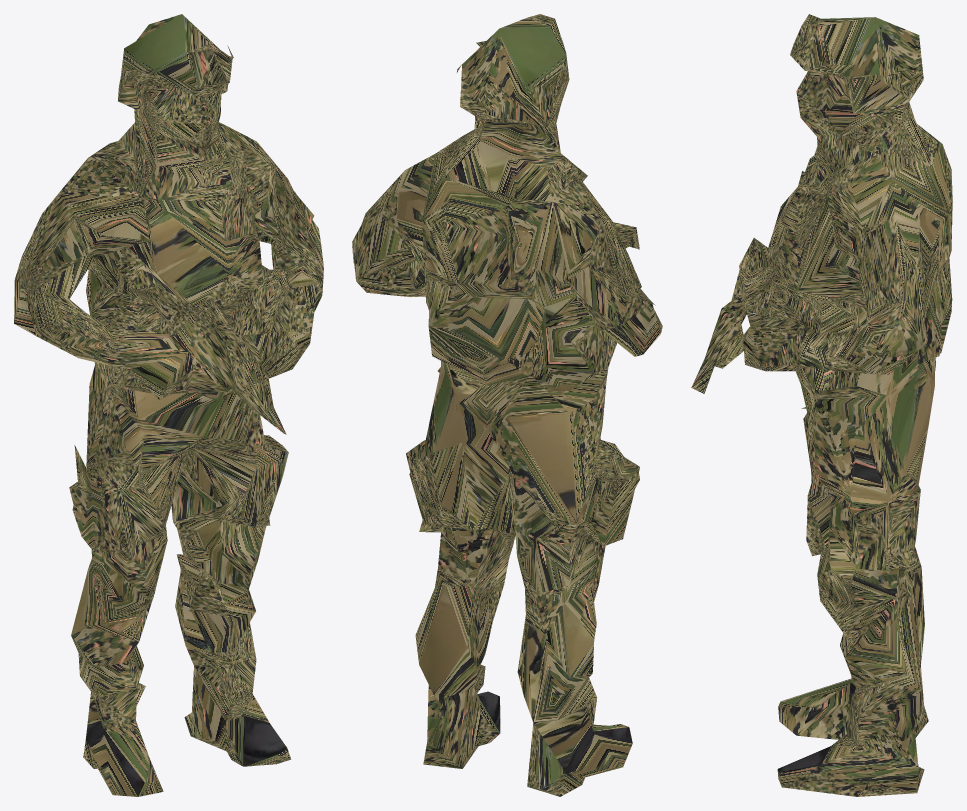
File: soldier-crowd.glb
The picture shows the model from 3 angles, left to right: view 1: azimuth 30°, elevation 25°; view 2: azimuth 150°, elevation 25°; view 3: azimuth 270°, elevation 25°; orthographic projection.
Visible parts, largest first — view 1: Mesh_0; view 2: Mesh_0; view 3: Mesh_0.
Part boxes in pixels (x1,y1,x2,y2): Mesh_0: (14,14,323,796); Mesh_0: (352,14,662,796); Mesh_0: (691,14,952,796).
Size of the model in its own units: 0.7628 by 1.8 by 0.5669.
Materials: 1 (1 with a texture image).
